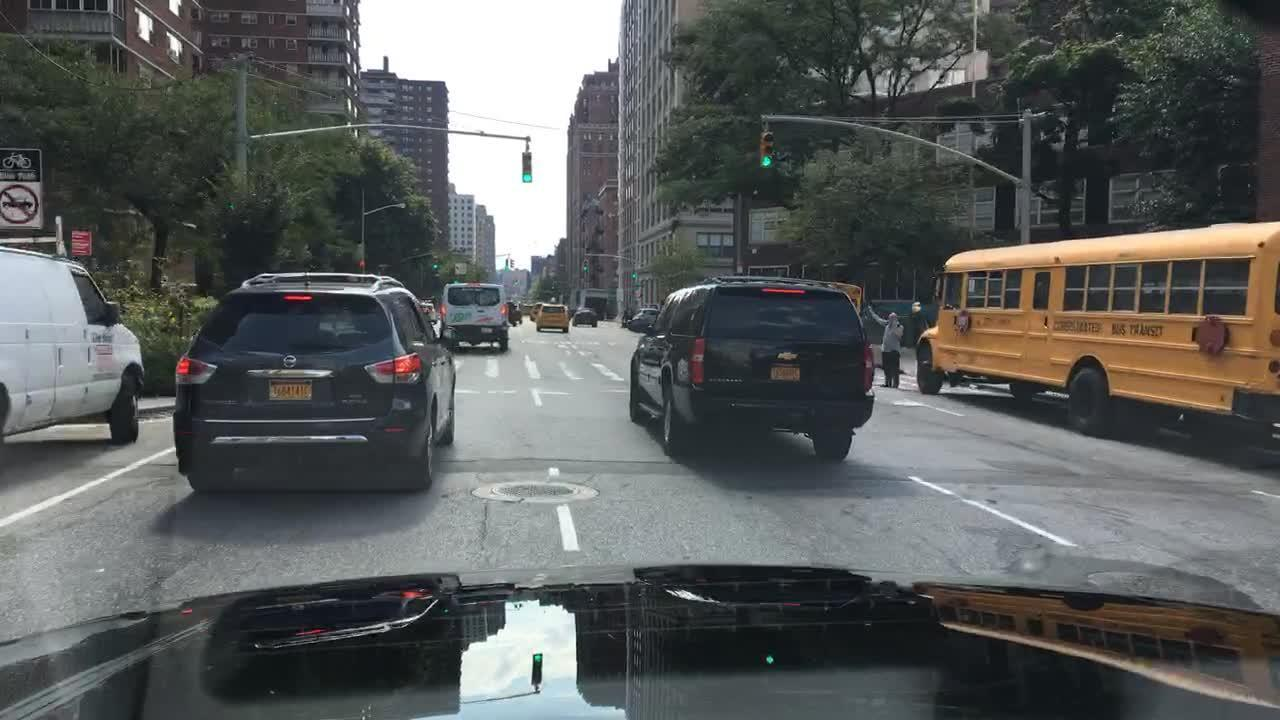Nissan: (276, 351, 301, 371)
